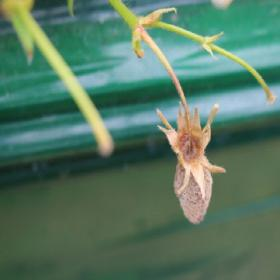Gray Mold: (164, 105, 227, 225)
